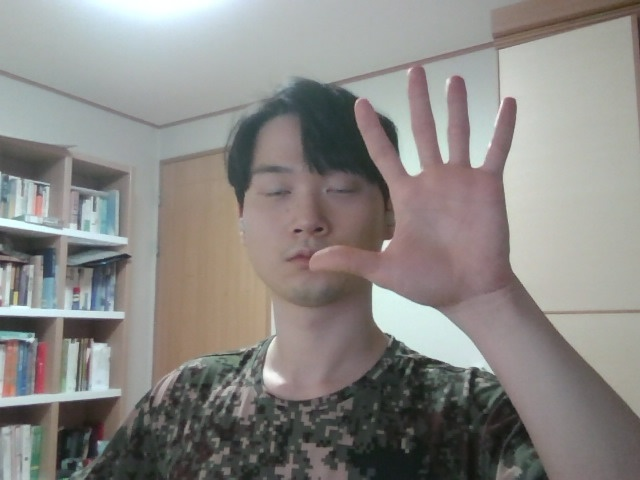hello: (288, 57, 574, 319)
